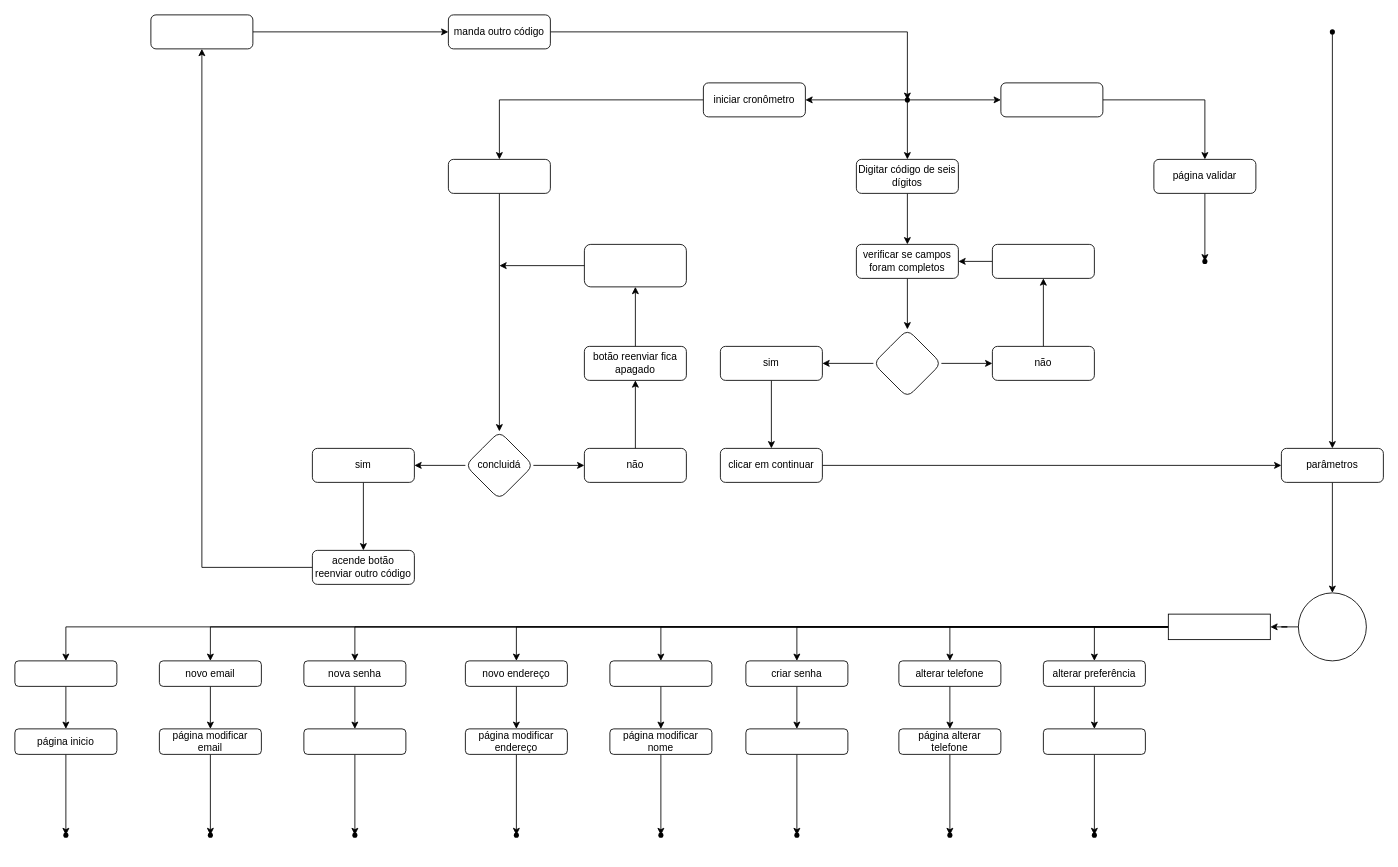
Image size: 1398x867. Some labels were removed from this diagram. The shapes that lost their labels are listed below. From the top down, each one's centre as x and y in pixels, then its label:
the point at 201,31: click
the point at 1051,99: clicar em outra forma
the point at 499,176: contagem regressiva de 1 minuto
the point at 635,265: continua
the point at 1043,261: mandar usuário completar
the point at 907,363: completo
the point at 1218,626: destinos
the point at 1332,626: análise
the point at 65,673: início
the point at 660,673: alterar nome
the point at 354,741: página modificar senha
the point at 796,741: página criar senha
the point at 1094,741: página alterar preferência
